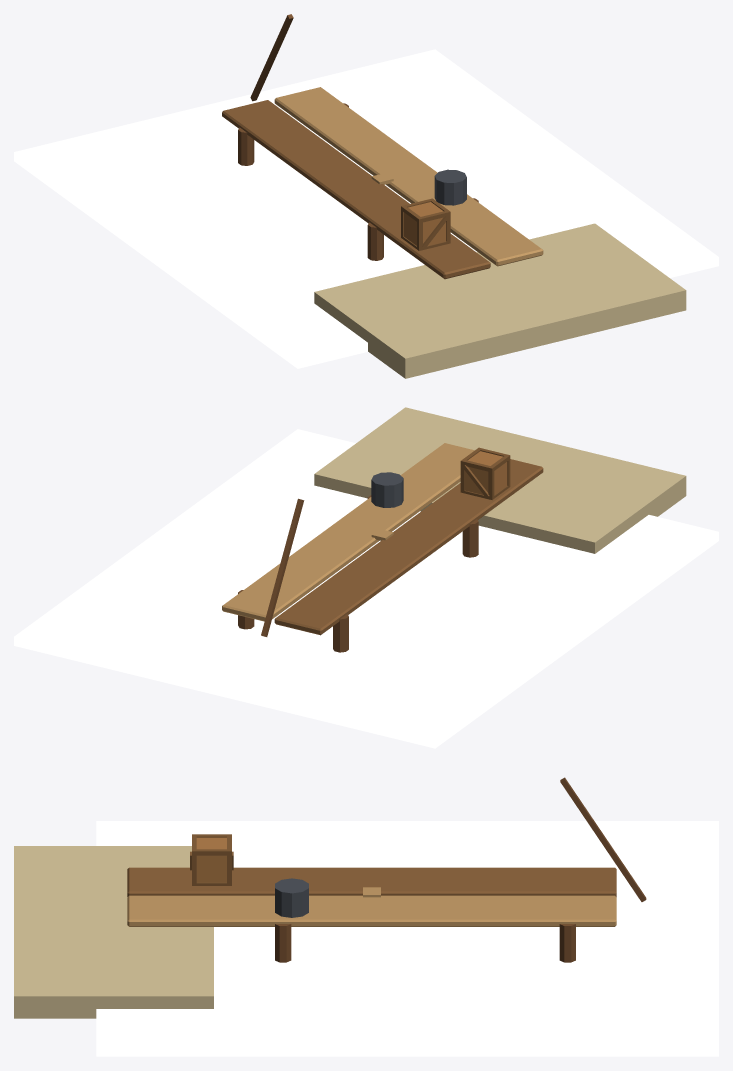
Rendered from SceneFishing.glb.
The picture shows the model from 3 angles, top to bottom: view 1: azimuth 30°, elevation 25°; view 2: azimuth 150°, elevation 25°; view 3: azimuth 270°, elevation 25°; orthographic projection. The views are drawn at different scales.
Parts seen in each view (by area): view 1: Glow, Body; view 2: Glow, Body; view 3: Glow, Body.
Part boxes in pixels (bbox=[...]): Glow: bbox=[14, 49, 718, 368]; Body: bbox=[222, 14, 686, 378]; Glow: bbox=[14, 429, 718, 748]; Body: bbox=[222, 407, 686, 652]; Glow: bbox=[96, 821, 718, 1056]; Body: bbox=[14, 777, 646, 1018].
Size of the model in its own units: 12 by 5.12 by 15.85.
